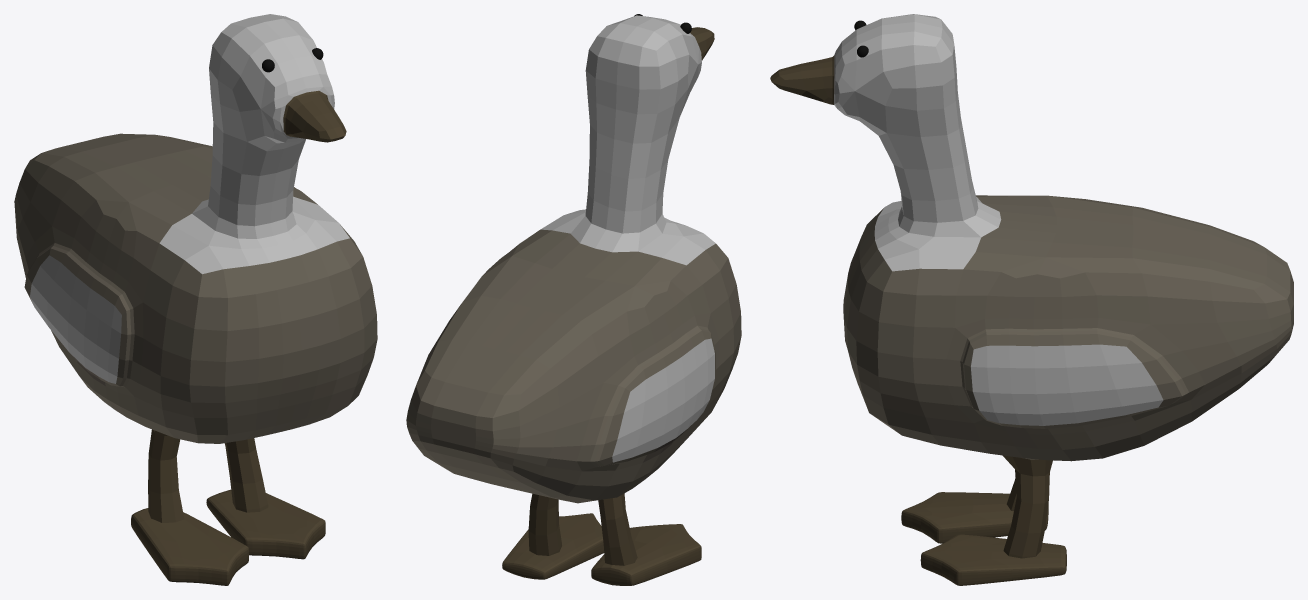
File: duck4.gltf
3 views of the same model, side by side, from view 1: azimuth 30°, elevation 25°; view 2: azimuth 150°, elevation 25°; view 3: azimuth 270°, elevation 25° (orthographic). The views are drawn at different scales.
Parts seen in each view (by area): view 1: Cube; view 2: Cube; view 3: Cube.
Boxes of the visible parts, bbox=[...] form: Cube: bbox=[14, 14, 377, 585]; Cube: bbox=[406, 14, 741, 585]; Cube: bbox=[770, 14, 1293, 585].
Size of the model in its own units: 6.67 by 14.97 by 13.49.
